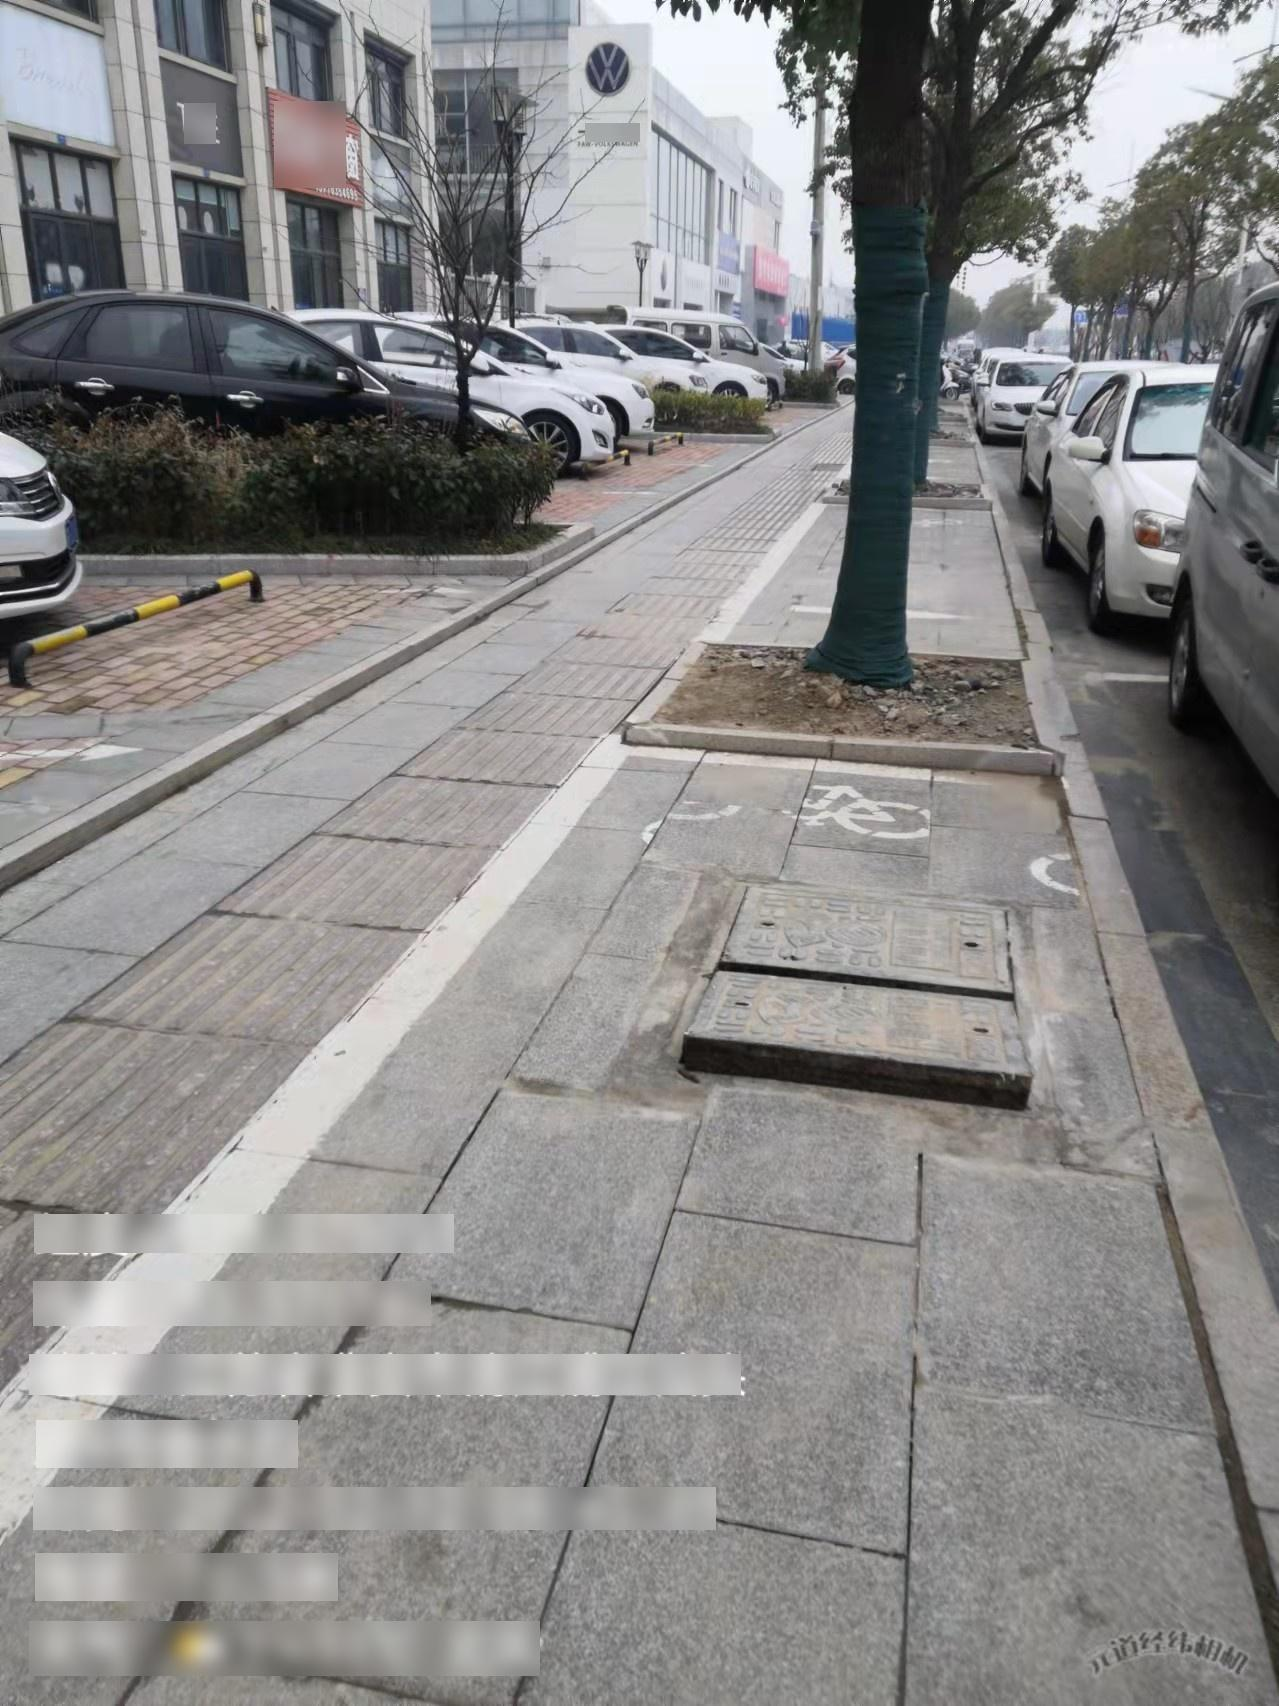wellcover: (695, 852, 1037, 1130)
